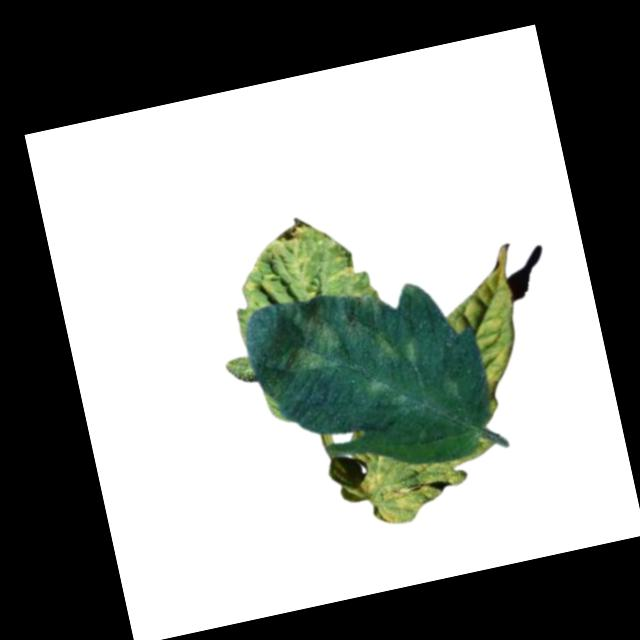Leaf_Mold: (435, 251, 530, 400), (230, 212, 359, 301), (349, 459, 437, 532), (264, 307, 346, 380)
